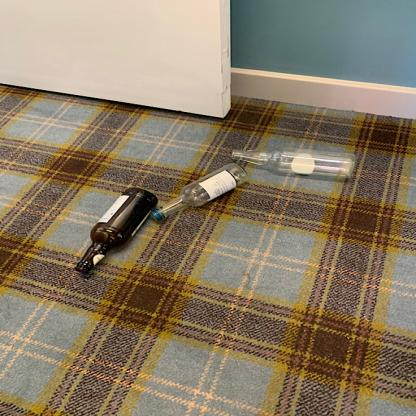trash: (75, 186, 160, 278), (148, 163, 252, 227), (232, 142, 358, 184)
